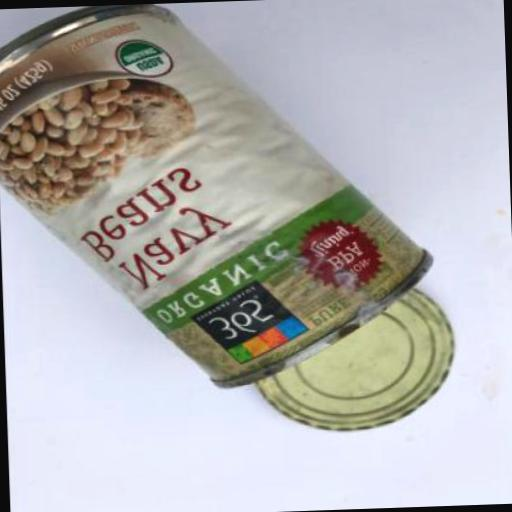metal: (0, 0, 437, 397), (250, 284, 456, 436)
